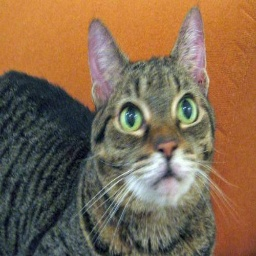cat: (1, 12, 224, 256)
